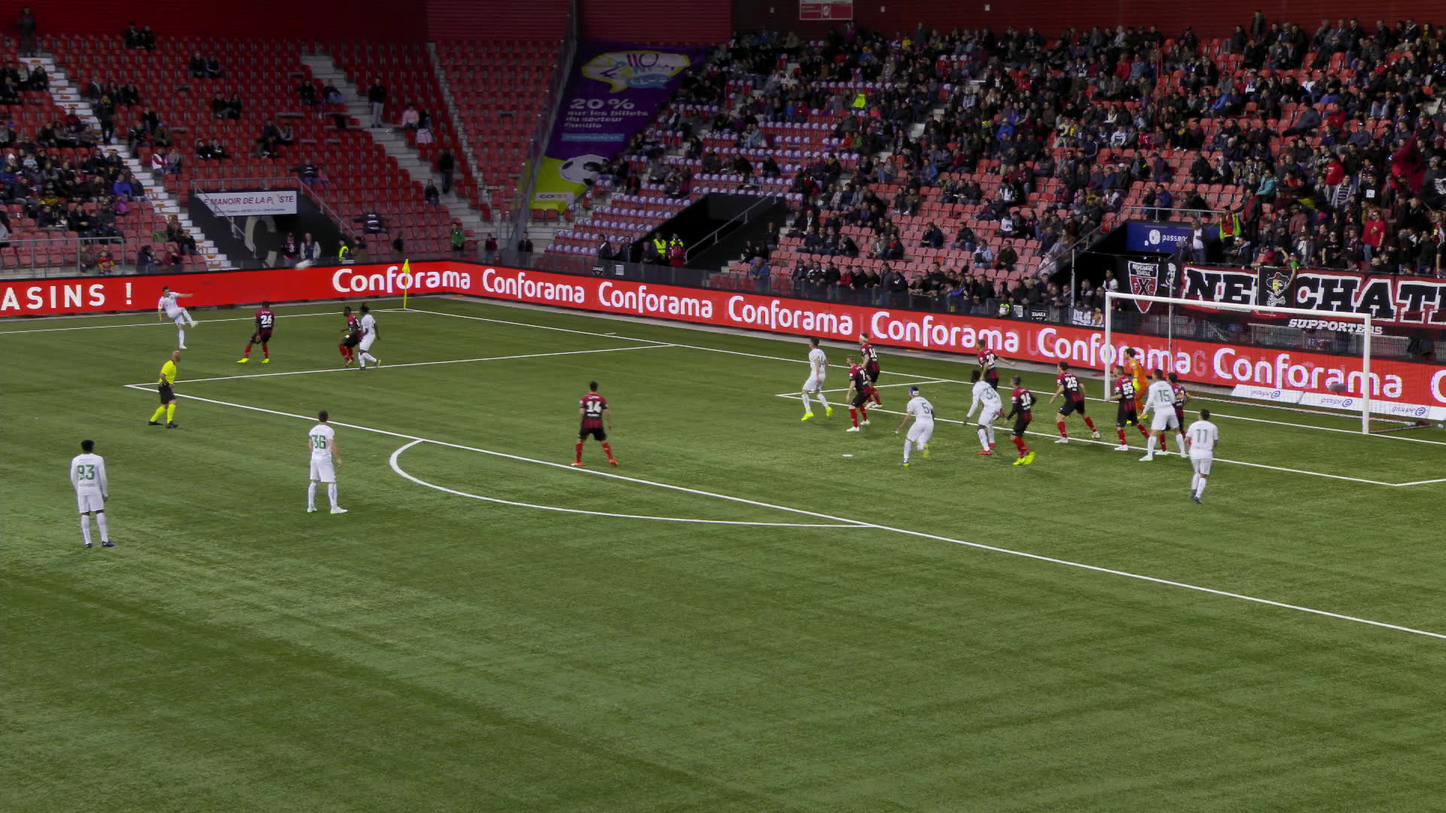ball: (296, 260, 310, 269)
player: (66, 440, 109, 548), (301, 411, 342, 513), (1134, 368, 1178, 460), (1176, 408, 1218, 504), (1048, 357, 1091, 441), (564, 379, 604, 466), (964, 367, 1004, 453), (1000, 379, 1039, 467), (1102, 363, 1140, 449), (1159, 369, 1197, 453), (899, 386, 936, 469), (795, 337, 827, 419), (856, 333, 884, 410), (243, 298, 276, 363), (973, 342, 999, 423), (155, 288, 189, 348), (843, 355, 868, 431), (1122, 348, 1144, 424), (334, 304, 359, 366), (355, 301, 377, 368)
referee: (148, 348, 178, 427)
